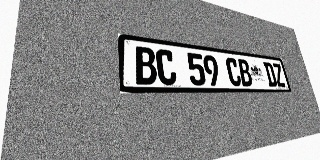5: (187, 52, 207, 86)
9: (202, 54, 221, 86)
B: (134, 46, 158, 85), (237, 59, 253, 86)
C: (155, 48, 177, 85), (225, 57, 242, 86)
D: (263, 62, 278, 87)
Z: (272, 63, 286, 87)
